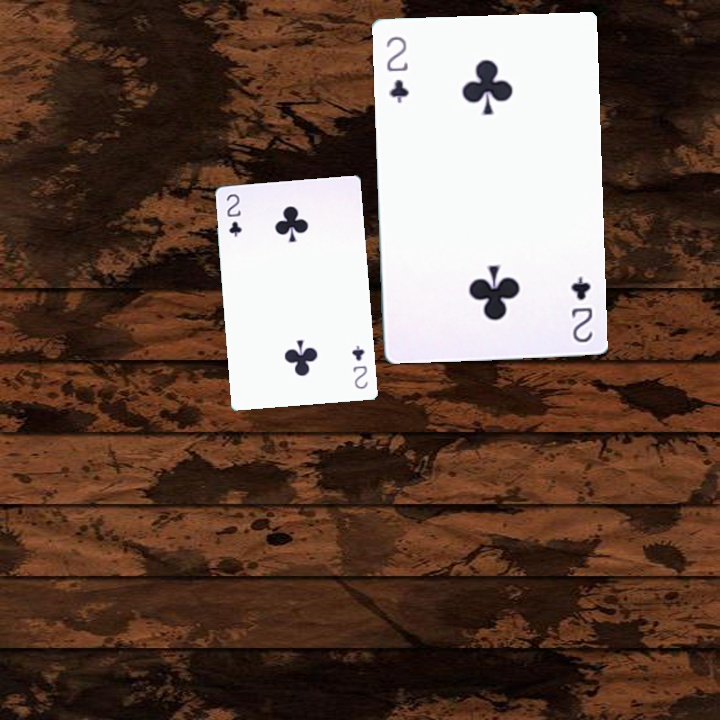2c: (382, 32, 411, 105), (567, 273, 595, 345), (348, 341, 370, 391), (222, 190, 244, 240)
